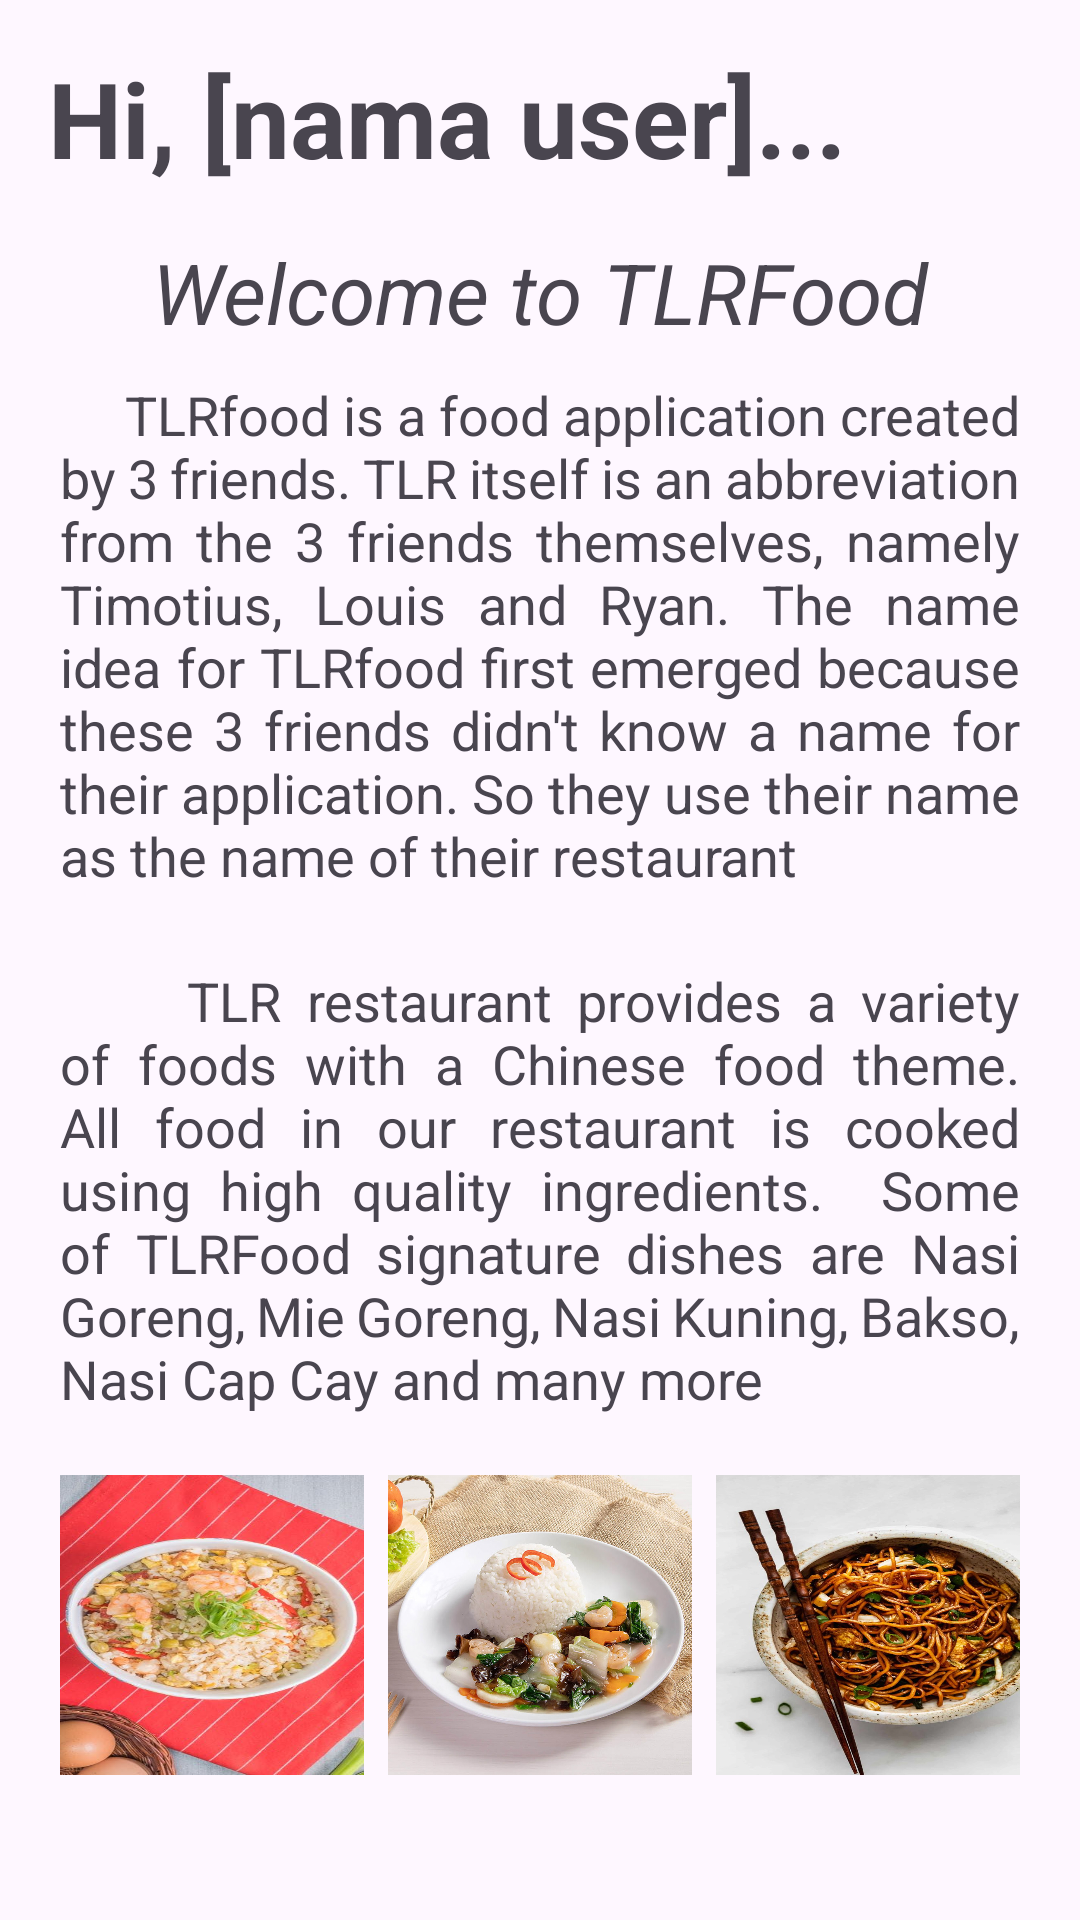

Icons on this 1080 × 1920 Android screen, each with the point to tap as (x=x, y=y):
miegoreg: (x=868, y=1625)
nasgorhongkong: (x=212, y=1625)
nasicapcay: (x=540, y=1625)
